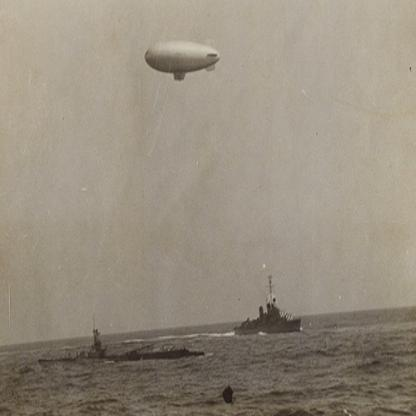Airship: (143, 37, 223, 83)
